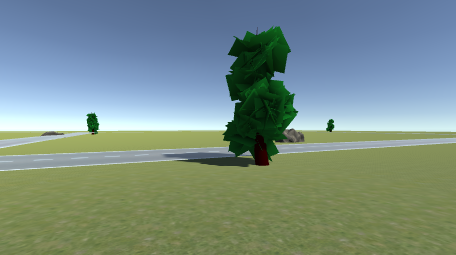rock: (274, 125, 308, 145), (40, 131, 66, 136)
tree: (226, 26, 297, 170), (86, 112, 101, 136), (325, 118, 336, 133)
